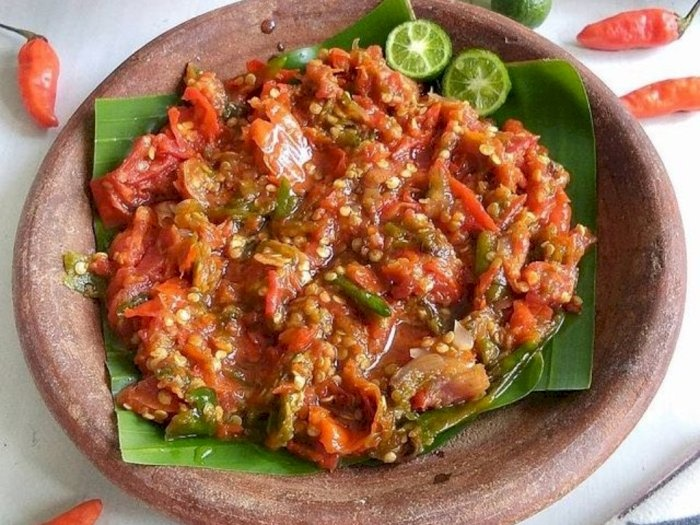sambal: (90, 42, 597, 466)
